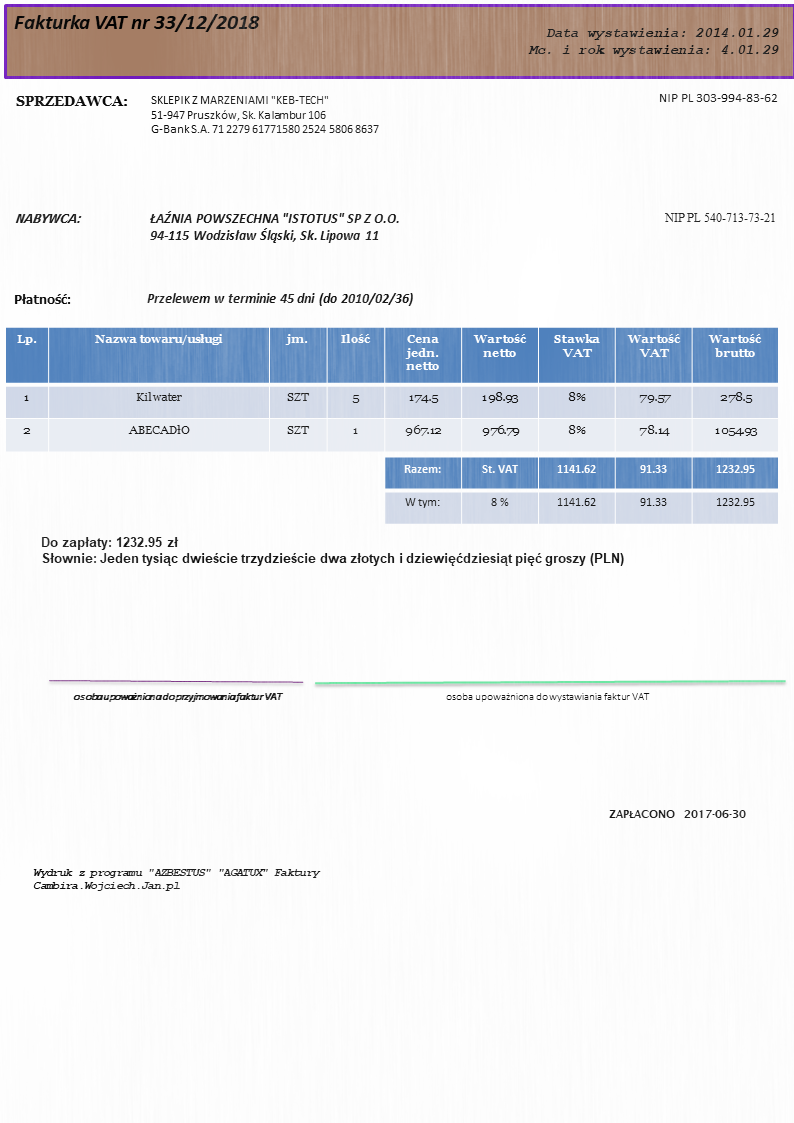Table: (3, 324, 779, 451), (382, 455, 779, 526)
TextBox: (38, 533, 627, 570), (148, 90, 381, 139), (524, 23, 781, 60), (146, 209, 403, 245), (31, 863, 324, 894), (10, 8, 262, 35), (144, 290, 415, 307), (70, 688, 283, 705), (442, 689, 653, 704), (606, 805, 749, 823), (12, 91, 128, 111), (656, 88, 780, 106), (660, 208, 779, 226), (12, 210, 82, 228), (10, 290, 73, 308)
